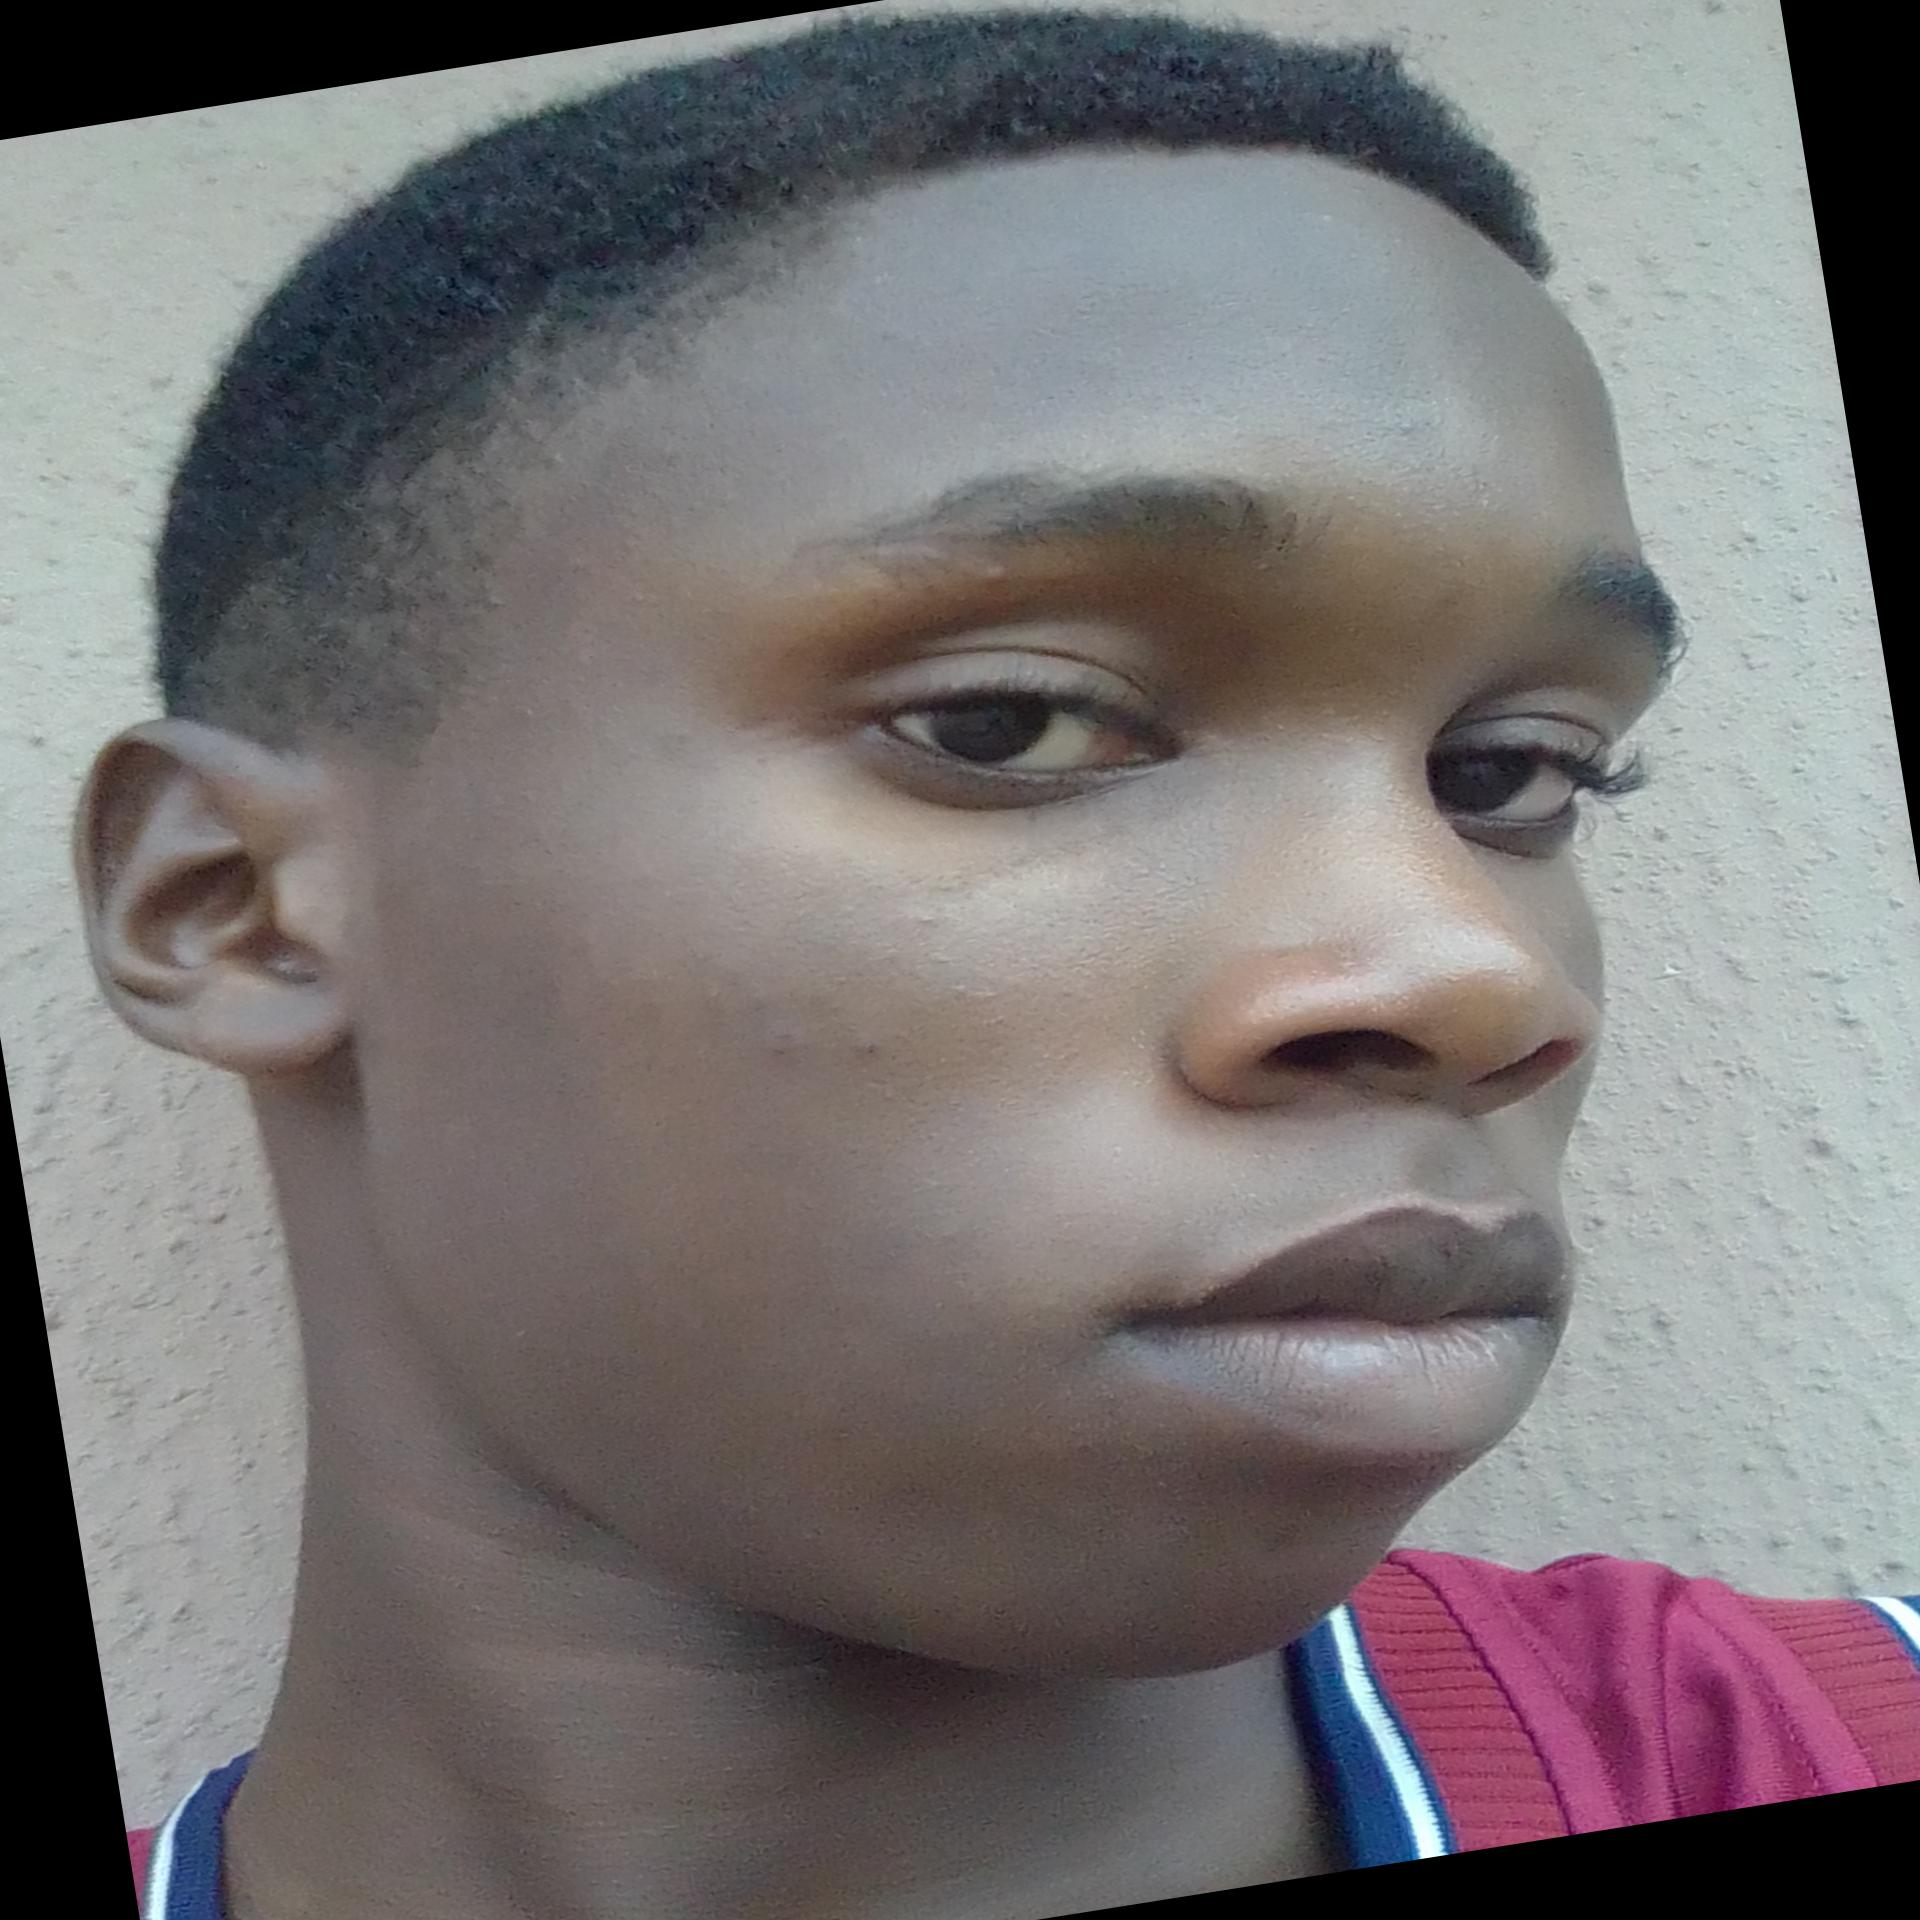Acne: (830, 1027, 907, 1073), (747, 1022, 800, 1071), (965, 549, 1023, 593), (905, 895, 949, 934)
